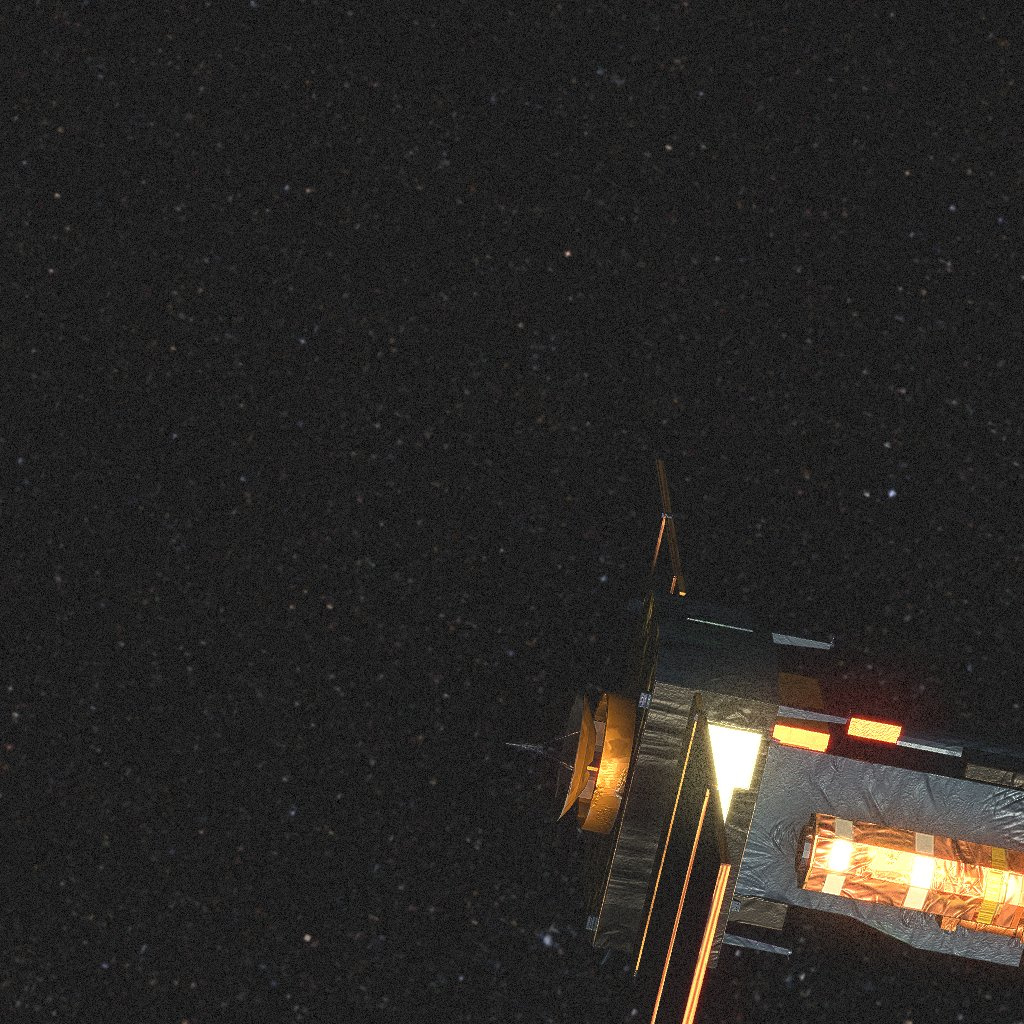soho: (506, 459, 1024, 1024)
